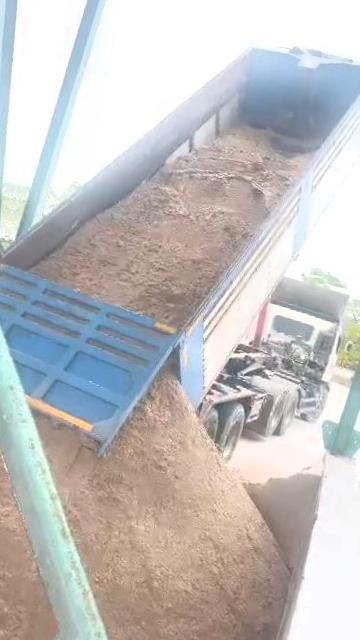sand: (37, 376, 288, 640), (35, 126, 307, 326), (0, 407, 56, 630), (245, 461, 321, 571)
